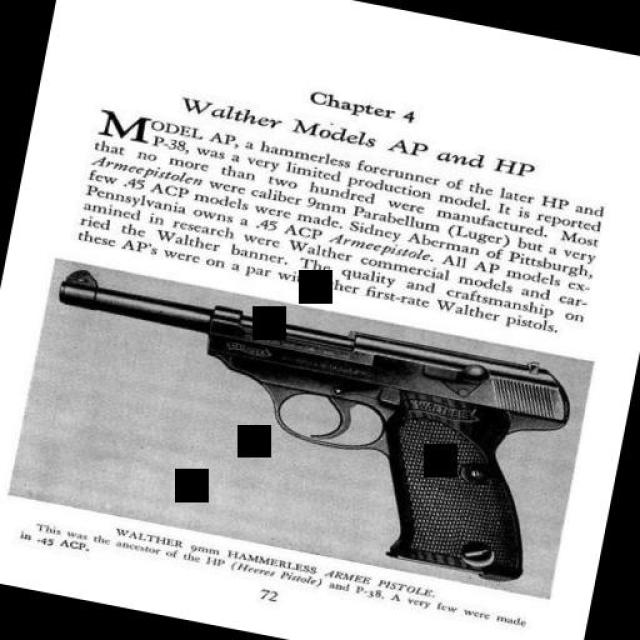gun: (15, 263, 583, 592)
